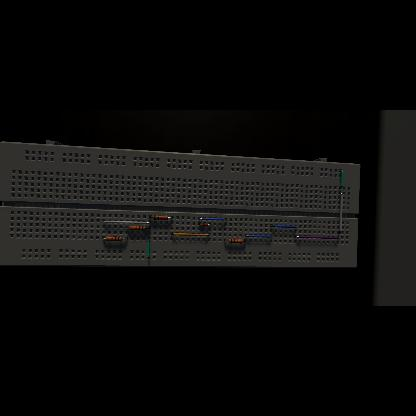breadboard: (0, 141, 360, 269)
resistor: (130, 226, 146, 232), (106, 236, 122, 242), (152, 216, 168, 221), (229, 240, 243, 244)
wire: (337, 193, 343, 233), (294, 236, 340, 240), (103, 221, 151, 224), (171, 233, 209, 236), (199, 218, 227, 221), (244, 235, 272, 238), (339, 171, 343, 189), (270, 226, 298, 228), (148, 238, 150, 260), (199, 224, 211, 226), (122, 238, 127, 240), (224, 240, 228, 242), (150, 216, 152, 218), (169, 218, 173, 219), (146, 228, 150, 229), (103, 238, 105, 240), (243, 240, 245, 242), (127, 228, 129, 229)
